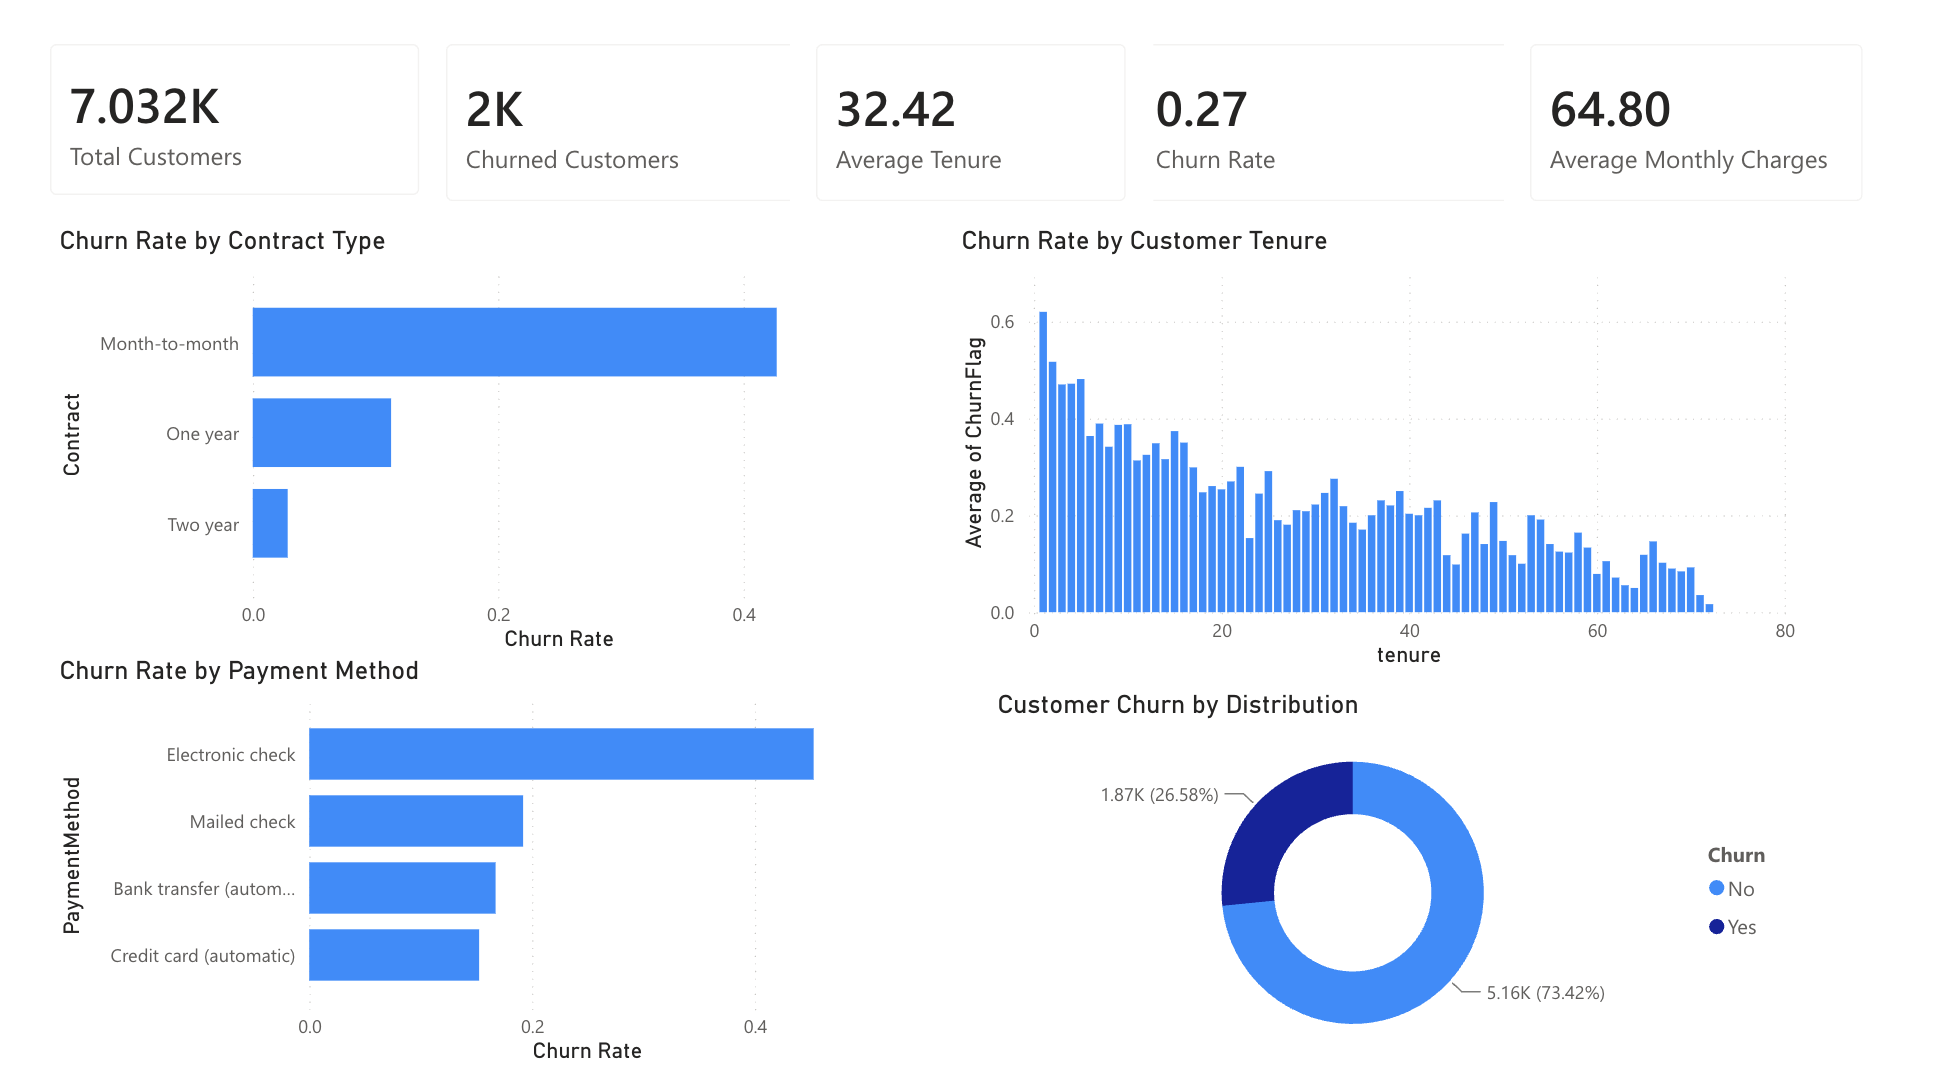

The page's visual inventory and layout, read from the dashboard file:
{"tool":"powerbi","page":{"name":"Churn Overview","canvas":[1280,720],"ordinal":0},"visuals":[{"type":"cardVisual","fields":{"Data":["CountNonNull(telco_churn_cleaned.customerID)"]},"box":[22.3,19.7,276.4,133.6],"z":0},{"type":"cardVisual","fields":{"Data":["Sum(telco_churn_cleaned.ChurnFlag)"]},"box":[281.7,19.7,263.3,137.6],"z":1},{"type":"cardVisual","fields":{"Data":["Avg(telco_churn_cleaned.ChurnFlag)"]},"box":[733.9,19.3,283.3,137.7],"z":2},{"type":"cardVisual","fields":{"Data":["Avg(telco_churn_cleaned.MonthlyCharges)"]},"box":[992.1,19.3,252.6,137.7],"z":3},{"type":"cardVisual","fields":{"Data":["Avg(telco_churn_cleaned.tenure)"]},"box":[524.5,19.3,237.8,137.7],"z":4},{"type":"clusteredBarChart","title":"Churn Rate by Contract Type ","fields":{"Category":["telco_churn_cleaned.Contract"],"Y":["Avg(telco_churn_cleaned.ChurnFlag)"]},"box":[40.6,157.2,546.3,281.7],"z":5},{"type":"donutChart","title":"Customer Churn by Distribution","fields":{"Category":["telco_churn_cleaned.Churn"],"Y":["CountNonNull(telco_churn_cleaned.customerID)"]},"box":[655.1,461.2,533.2,247.6],"z":6},{"type":"clusteredBarChart","title":"Churn Rate by Payment Method","fields":{"Category":["telco_churn_cleaned.PaymentMethod"],"Y":["Avg(telco_churn_cleaned.ChurnFlag)"]},"box":[40.6,438.9,546.3,269.9],"z":7},{"type":"clusteredColumnChart","title":"Churn Rate by Customer Tenure","fields":{"Category":["telco_churn_cleaned.tenure"],"Y":["Avg(telco_churn_cleaned.ChurnFlag)"]},"box":[631.5,157.2,556.8,292.2],"z":8}]}

Visuals, with their boxes in screenshot pixels (x1, y1, x2, y2), scaled from the page's 1280x720 canvas onto the 1940x1084 screenshot:
cardVisual - CountNonNull(telco_churn_cleaned.customerID): x1=34, y1=30, x2=453, y2=231
cardVisual - Sum(telco_churn_cleaned.ChurnFlag): x1=427, y1=30, x2=826, y2=237
cardVisual - Avg(telco_churn_cleaned.ChurnFlag): x1=1112, y1=29, x2=1542, y2=236
cardVisual - Avg(telco_churn_cleaned.MonthlyCharges): x1=1504, y1=29, x2=1886, y2=236
cardVisual - Avg(telco_churn_cleaned.tenure): x1=795, y1=29, x2=1155, y2=236
"Churn Rate by Contract Type " clusteredBarChart: x1=62, y1=237, x2=890, y2=661
"Customer Churn by Distribution" donutChart: x1=993, y1=694, x2=1801, y2=1067
"Churn Rate by Payment Method" clusteredBarChart: x1=62, y1=661, x2=890, y2=1067
"Churn Rate by Customer Tenure" clusteredColumnChart: x1=957, y1=237, x2=1801, y2=677
